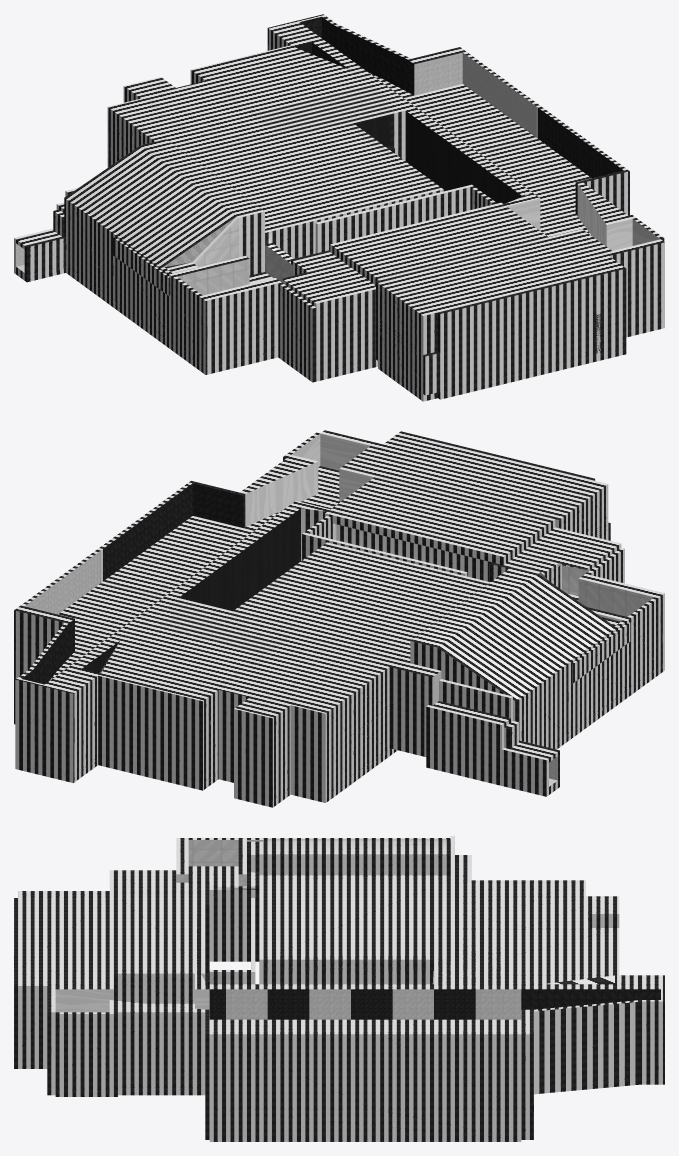
The model's file is truck level.fbx.
3 renders of one model, top to bottom at view 1: azimuth 30°, elevation 25°; view 2: azimuth 150°, elevation 25°; view 3: azimuth 270°, elevation 25°, orthographic. The views are drawn at different scales.
Parts seen in each view (by area): view 1: mesh_141; view 2: mesh_141; view 3: mesh_141.
Boxes of the visible parts, x1,y1,x2,y2 form: mesh_141: (14, 14, 664, 401); mesh_141: (14, 430, 664, 807); mesh_141: (14, 836, 664, 1141).
Size of the model in its own units: 4112 by 1136 by 5008.
